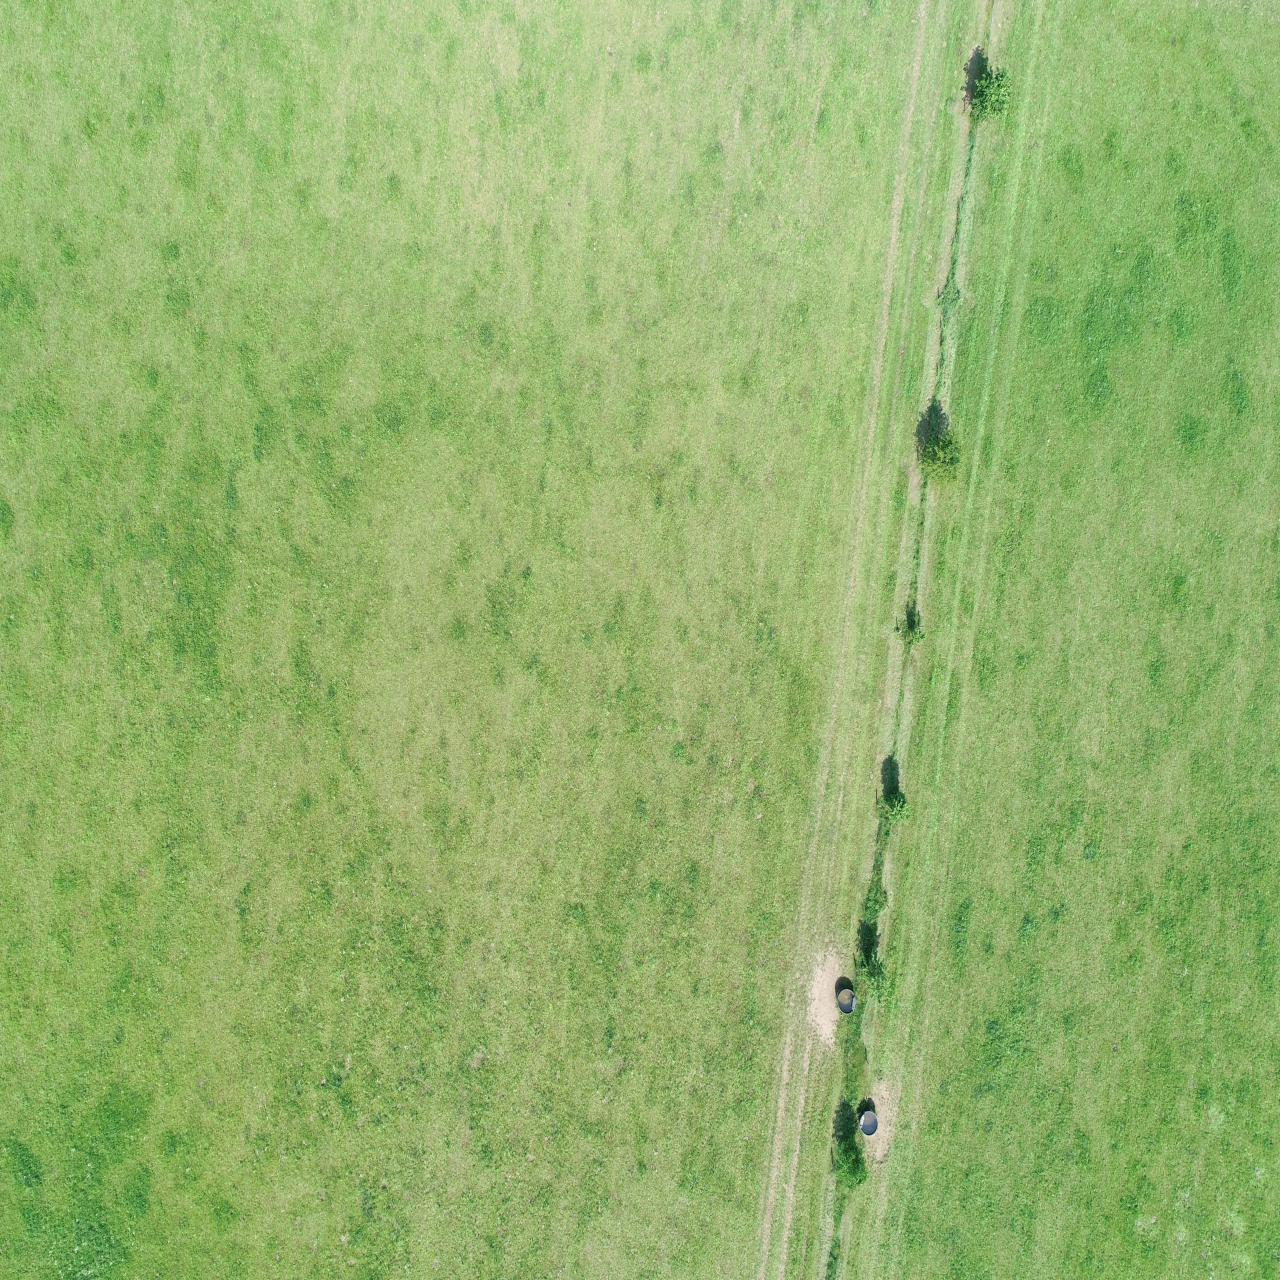cow: (139, 1133, 171, 1213), (42, 1192, 91, 1242), (15, 1047, 45, 1126), (87, 593, 122, 659)
